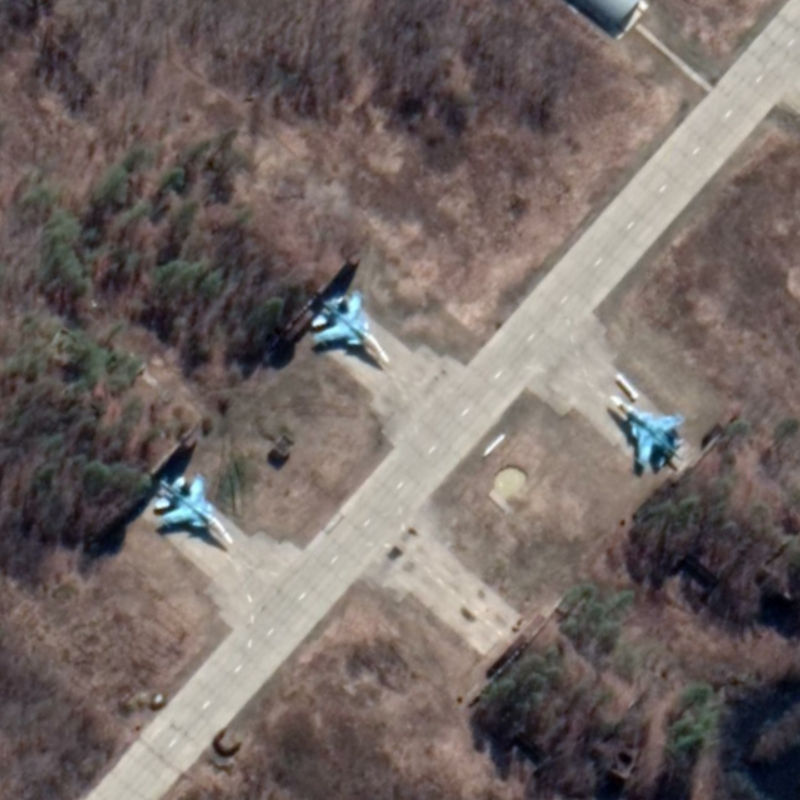A19: (310, 287, 393, 366), (151, 471, 236, 547), (608, 393, 688, 472)
